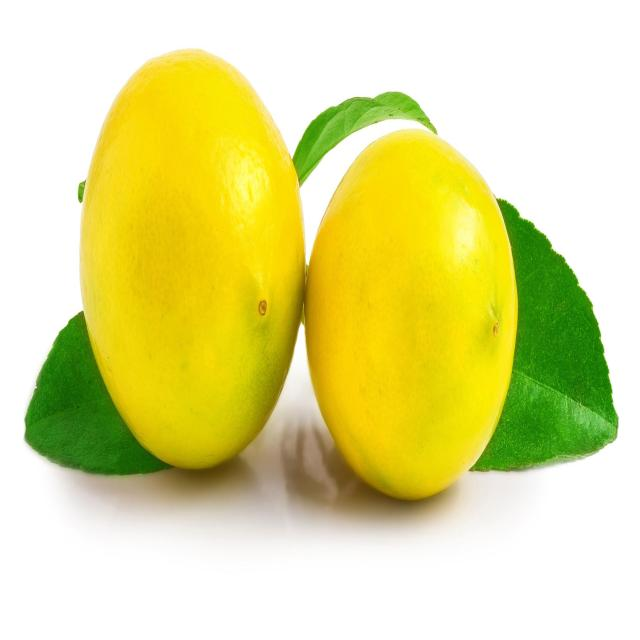lemon: (72, 39, 308, 480)
